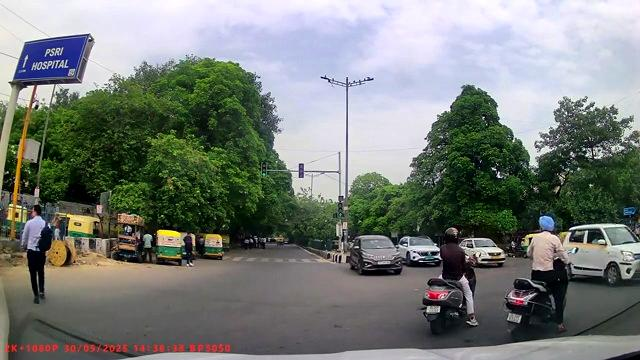motorcycle_with_helmet: (505, 213, 568, 335), (421, 226, 480, 334)
